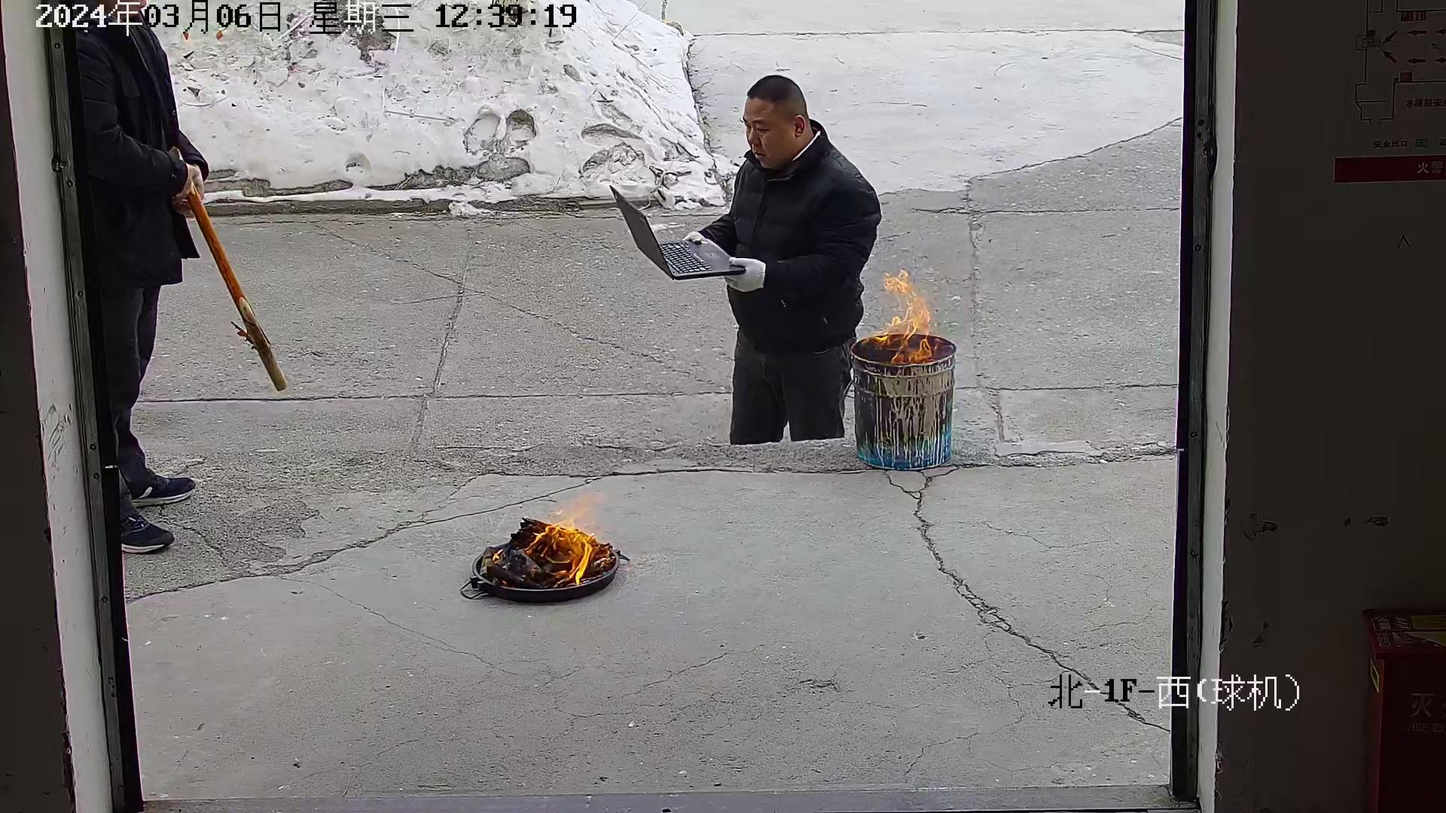fire: (511, 492, 618, 585), (859, 273, 954, 366)
